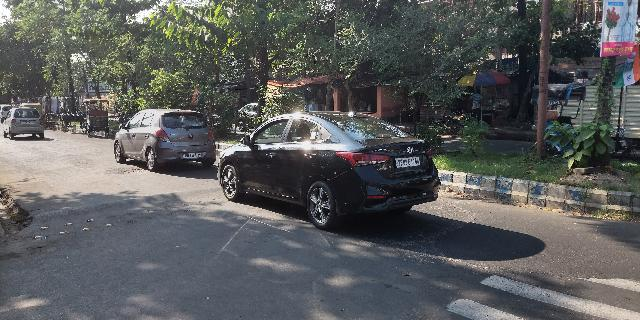Car: (213, 108, 444, 236), (108, 105, 218, 173), (3, 104, 47, 143)
Rickshaw: (79, 97, 114, 139)
